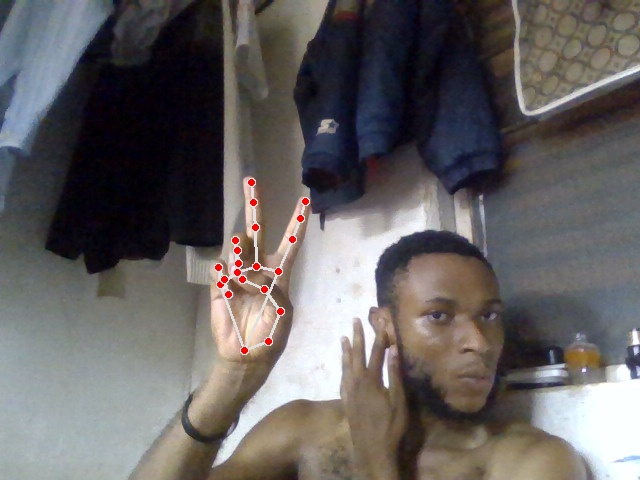peace: (208, 175, 311, 369)
